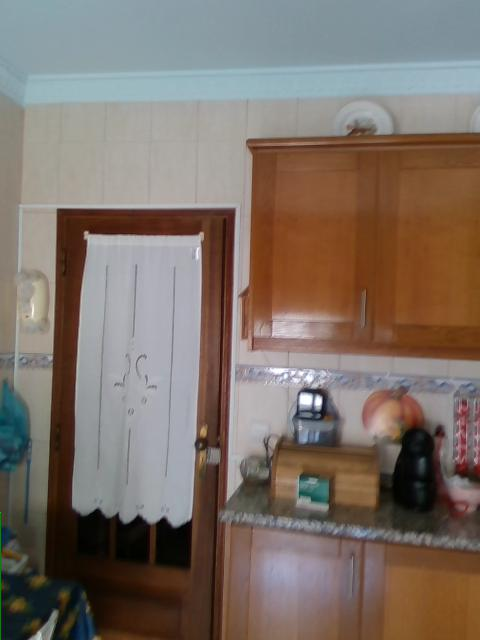door: (44, 206, 236, 638)
